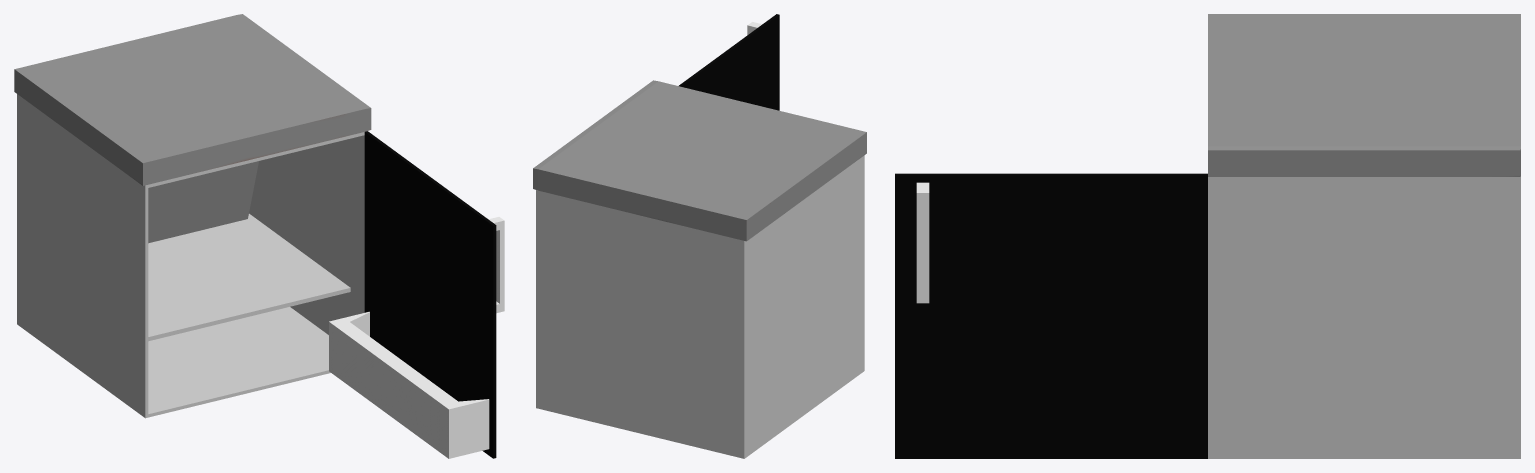
File: fridge.fbx
The picture shows the model from 3 angles, left to right: view 1: azimuth 30°, elevation 25°; view 2: azimuth 150°, elevation 25°; view 3: azimuth 270°, elevation 25°; orthographic projection. The views are drawn at different scales.
Parts seen in each view (by area): view 1: Body, Door, Cube.001; view 2: Body, Cube.001, Door; view 3: Door, Body, Cube.001.
Boxes of the visible parts, x1,y1,x2,y2 form: Body: (17, 94, 364, 418); Door: (329, 131, 504, 458); Cube.001: (14, 14, 371, 185); Body: (536, 155, 864, 458); Cube.001: (533, 80, 866, 241); Door: (679, 14, 779, 110); Door: (895, 173, 1207, 458); Body: (1208, 176, 1520, 458); Cube.001: (1208, 14, 1520, 176).
Size of the model in its own units: 217 by 220 by 400.
